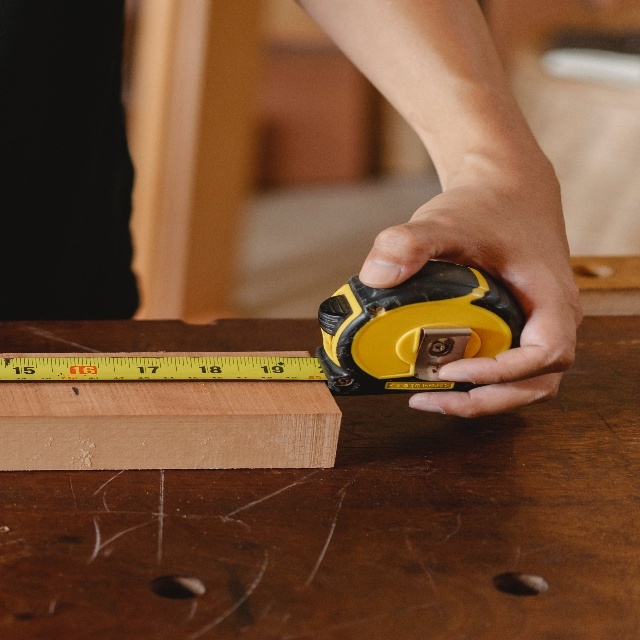Sin_guantes: (358, 156, 584, 419)
